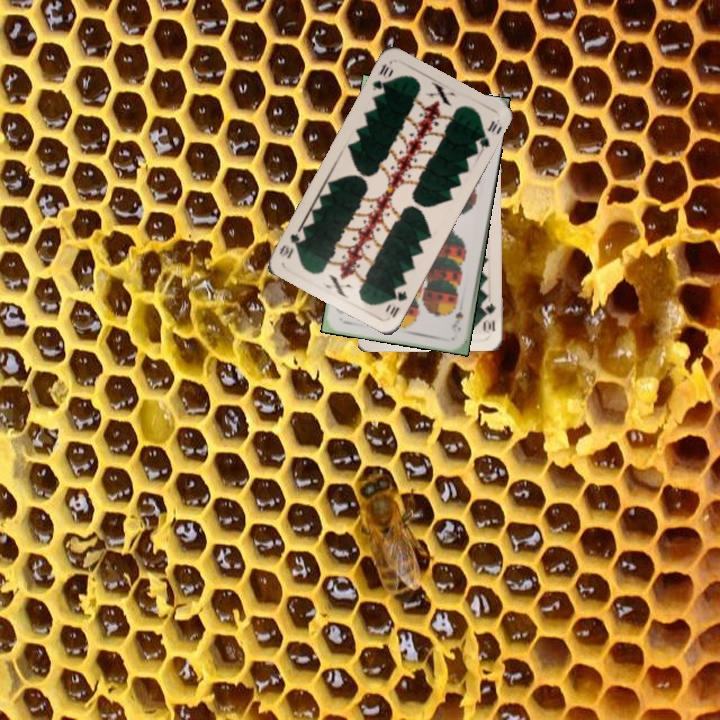G10: (368, 60, 396, 93), (386, 287, 410, 320), (480, 299, 499, 334)
S9: (447, 308, 466, 334)
